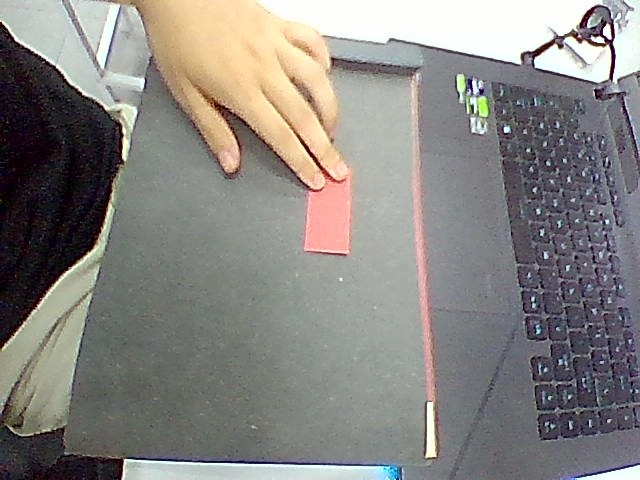card: (305, 176, 349, 255)
